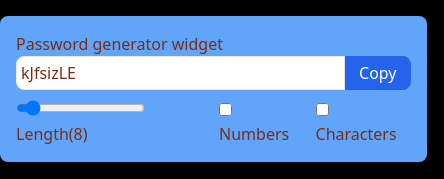
Test case: Should test all the widget methods › widget should contain a slider
This screenshot has width=444, height=179.
Set the slider with test id "range" to "20" at (85, 108), box [16,100,145,116]
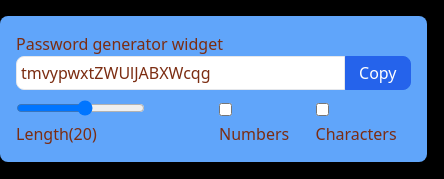
expect the text "Length(20)" is shown: met, box [16,123,97,145]
